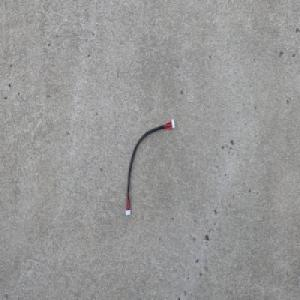Wire: (124, 117, 175, 217)
